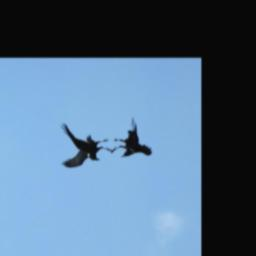Crow: (58, 121, 116, 169)
